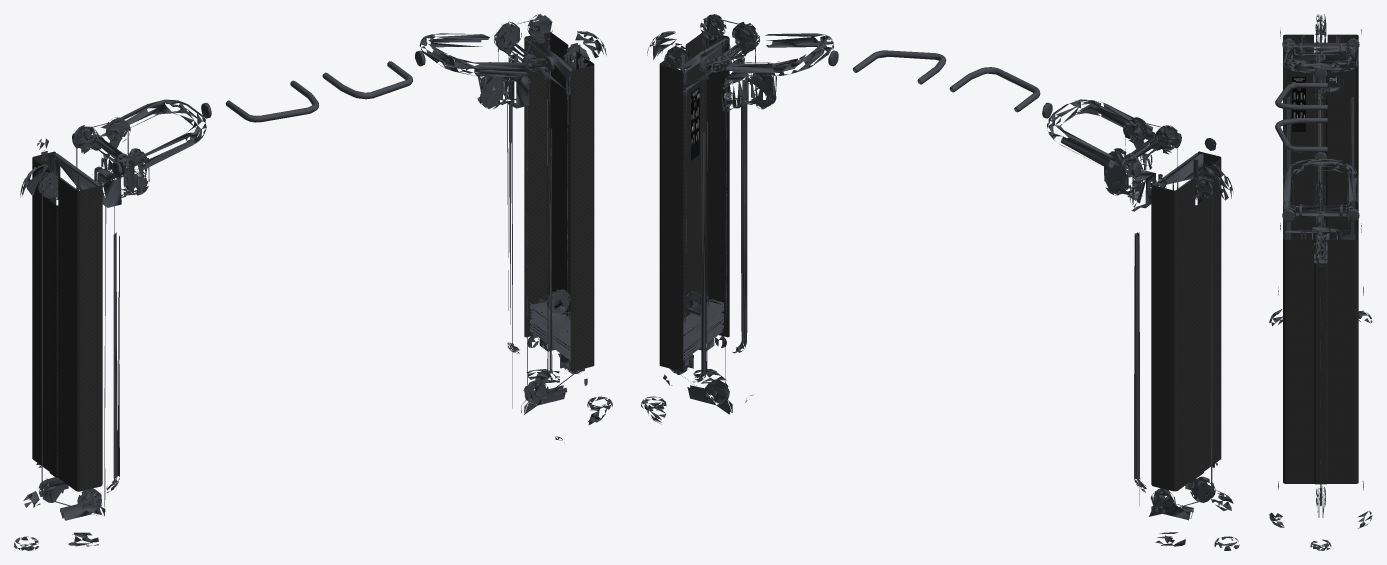
Rendered from cable-crossover-grok.glb.
3 renders of one model, left to right at view 1: azimuth 30°, elevation 25°; view 2: azimuth 150°, elevation 25°; view 3: azimuth 270°, elevation 25°, orthographic. The views are drawn at different scales.
Visible parts, largest first — view 1: crossover; view 2: crossover; view 3: crossover.
Part boxes in pixels (x1,y1,x2,y2): crossover: (14,14,612,550); crossover: (641,14,1239,550); crossover: (1269,14,1372,550).
Bounding box in the file's own units: 3.7 × 2.4 × 0.6905.
5 materials, 2 textured.
